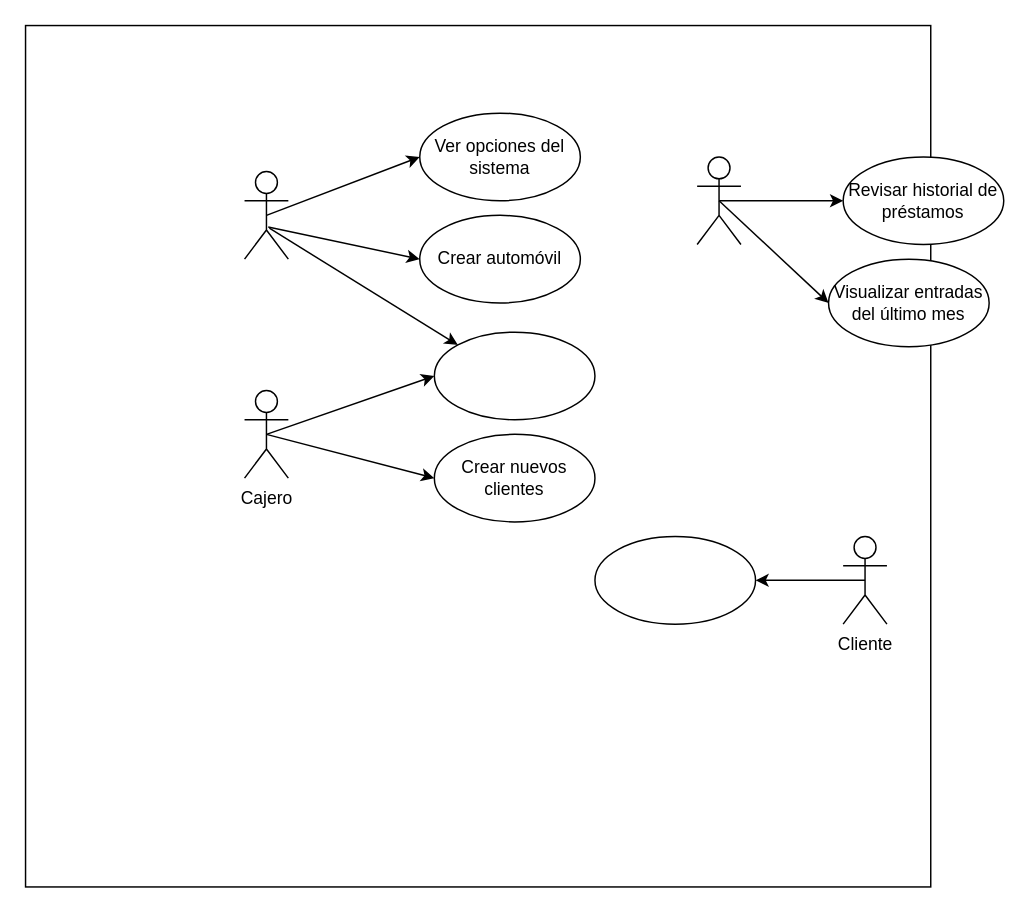
Some shapes in this 1029 by 913 pixel diagram are drawn without their labels. Each missing label, with the box of its shape:
Administrador: (243, 170, 288, 259)
Alquilar automóvil: (433, 331, 595, 420)
Auditor: (696, 155, 741, 245)
solicitar automóvil: (593, 535, 756, 624)
